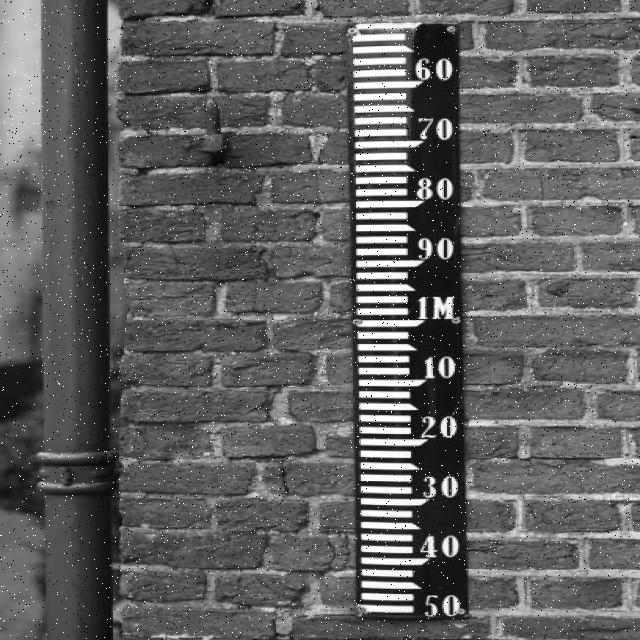10: (421, 356, 458, 380)
20: (418, 414, 459, 441)
30: (420, 473, 462, 499)
40: (415, 534, 461, 560)
50: (424, 592, 461, 618)
60: (417, 58, 458, 79)
70: (412, 114, 456, 141)
80: (415, 172, 459, 200)
90: (413, 234, 461, 262)
staff: (350, 19, 466, 622)
